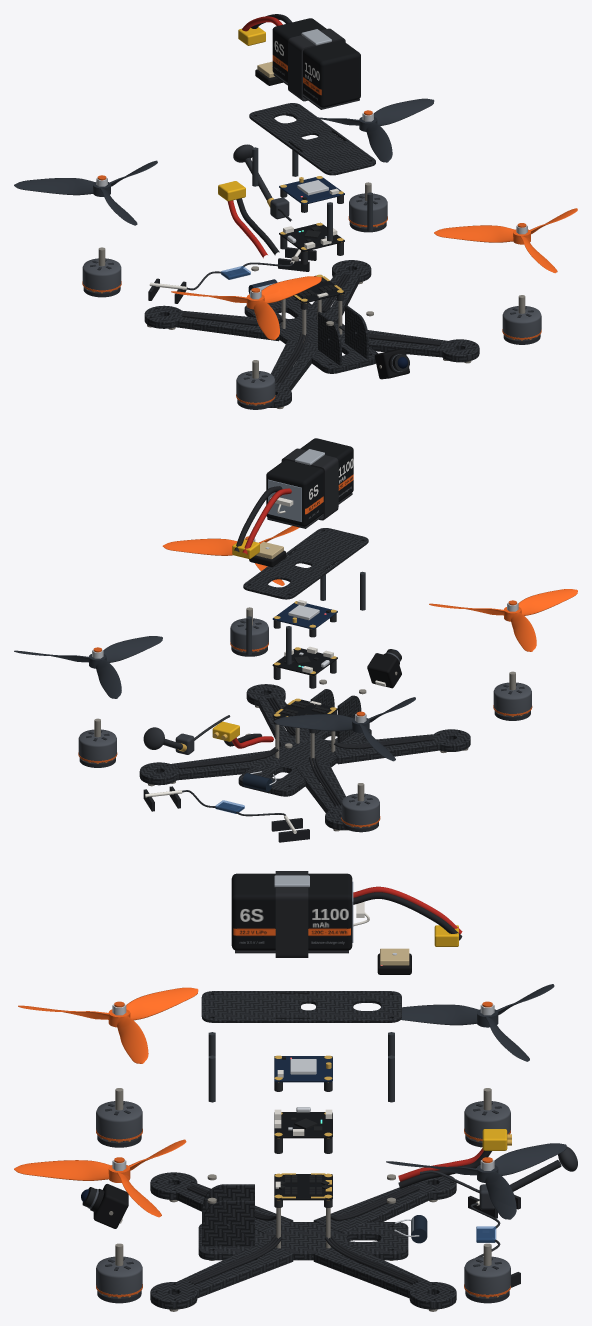
File: kestrel5-exploded.glb
3 renders of one model, top to bottom at view 1: azimuth 30°, elevation 25°; view 2: azimuth 150°, elevation 25°; view 3: azimuth 270°, elevation 25°, orthographic. The views are drawn at different scales.
Parts seen in each view (by area): view 1: LiPo pack, Top plate, Bell (×4), Bottom plate, Blade 2 (×2), Arm M1, Arm M4, Blade 1 (×2), Camera side plate (×2), Arm M2, PCB (×2), Arm M3 (+3 smaller); view 2: Top plate, Bell (×4), LiPo pack, Bottom plate, Arm M3, Arm M2, Blade 1 (×2), Blade 3 (×2), PCB (×2), Arm M1, Arm M4, Blade 2 (×2) (+4 smaller); view 3: LiPo pack, Top plate, Bell (×4), Bottom plate, Arm M4, Arm M3, Camera side plate (×2), PCB (×3), Blade 3 (×2), Blade 2 (×2), Strap, Arm M1 (+6 smaller).
Part boxes in pixels (x1,y1,x2,y2): LiPo pack: [272, 18, 360, 107]; Top plate: [249, 103, 375, 175]; Bell (×4): [82, 193, 541, 404]; Bottom plate: [244, 296, 377, 373]; Blade 2 (×2): [14, 178, 514, 242]; Arm M1: [144, 305, 287, 341]; Arm M4: [340, 330, 479, 362]; Blade 1 (×2): [261, 98, 434, 303]; Camera side plate (×2): [318, 305, 368, 365]; Arm M2: [268, 341, 317, 407]; PCB (×2): [279, 177, 344, 251]; Arm M3: [306, 260, 371, 323]; Top plate: [243, 528, 368, 599]; Bell (×4): [78, 618, 531, 826]; LiPo pack: [266, 438, 353, 526]; Bottom plate: [238, 729, 371, 796]; Arm M3: [139, 750, 281, 785]; Arm M2: [329, 729, 470, 764]; Blade 1 (×2): [162, 538, 353, 731]; Blade 3 (×2): [103, 589, 577, 662]; PCB (×2): [272, 601, 337, 675]; Arm M1: [296, 764, 348, 830]; Arm M4: [246, 684, 310, 746]; Blade 2 (×2): [96, 612, 536, 698]; LiPo pack: [231, 873, 352, 950]; Top plate: [201, 991, 401, 1022]; Bell (×4): [96, 1101, 510, 1296]; Bottom plate: [198, 1222, 408, 1260]; Arm M4: [150, 1241, 293, 1309]; Arm M3: [313, 1241, 456, 1309]; Camera side plate (×2): [202, 1184, 254, 1246]; PCB (×3): [274, 1056, 332, 1200]; Blade 3 (×2): [14, 1004, 478, 1180]; Blade 2 (×2): [126, 987, 566, 1175]; Strap: [275, 871, 308, 957]; Arm M1: [313, 1175, 456, 1233].
Bounding box in the file's own units: 0.3414 × 0.2491 × 0.3461.
Materials: 310 (10 with a texture image).
